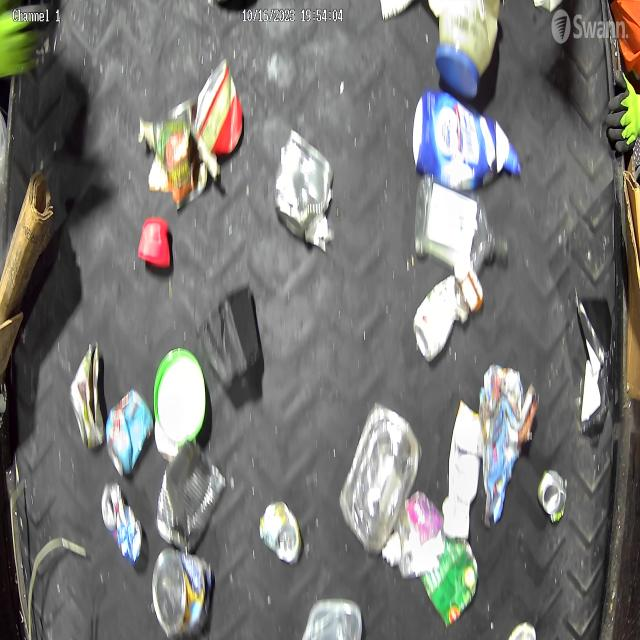can: (154, 440, 227, 546), (272, 132, 332, 248), (145, 545, 218, 640), (192, 60, 254, 158), (422, 536, 483, 626), (100, 473, 145, 564), (108, 387, 152, 479), (258, 498, 305, 562), (535, 462, 570, 528)
non_white_jug: (412, 83, 523, 208)
